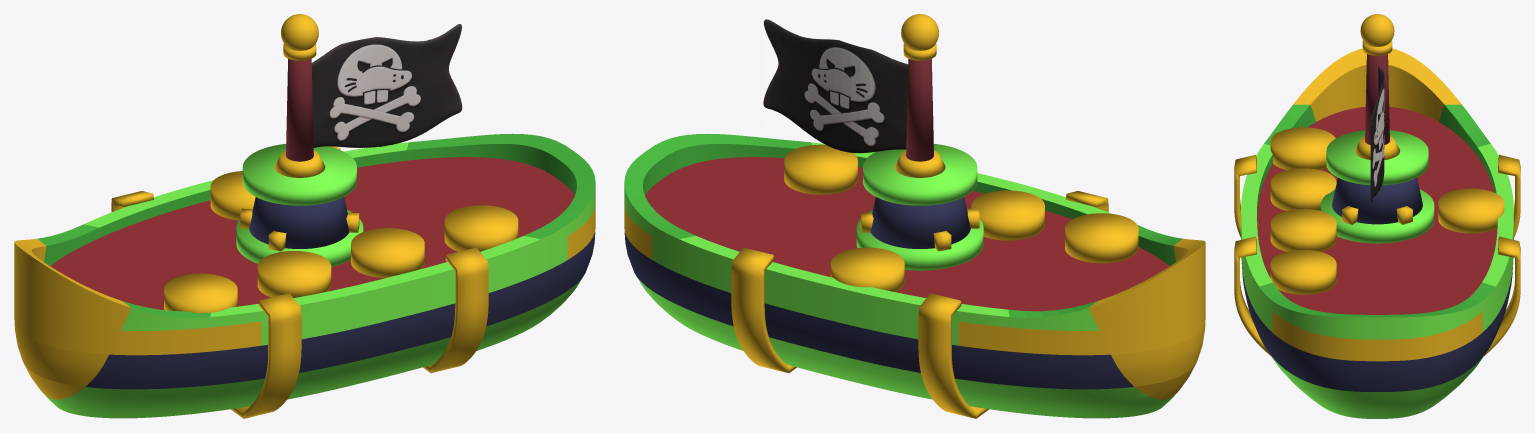
Rendered from hull-neon.glb.
3 renders of one model, left to right at view 1: azimuth 30°, elevation 25°; view 2: azimuth 150°, elevation 25°; view 3: azimuth 270°, elevation 25°, orthographic. The views are drawn at different scales.
Visible parts, largest first — view 1: hull, Grid; view 2: hull, Grid; view 3: hull, Grid.
Part boxes in pixels (x1,y1,x2,y2): hull: (14,14,595,418); Grid: (311,24,462,147); hull: (624,14,1205,418); Grid: (763,19,908,153); hull: (1234,14,1520,418); Grid: (1370,66,1384,202).
Bounding box in the file's own units: 1 × 0.5874 × 0.504.
2 materials, 2 textured.
